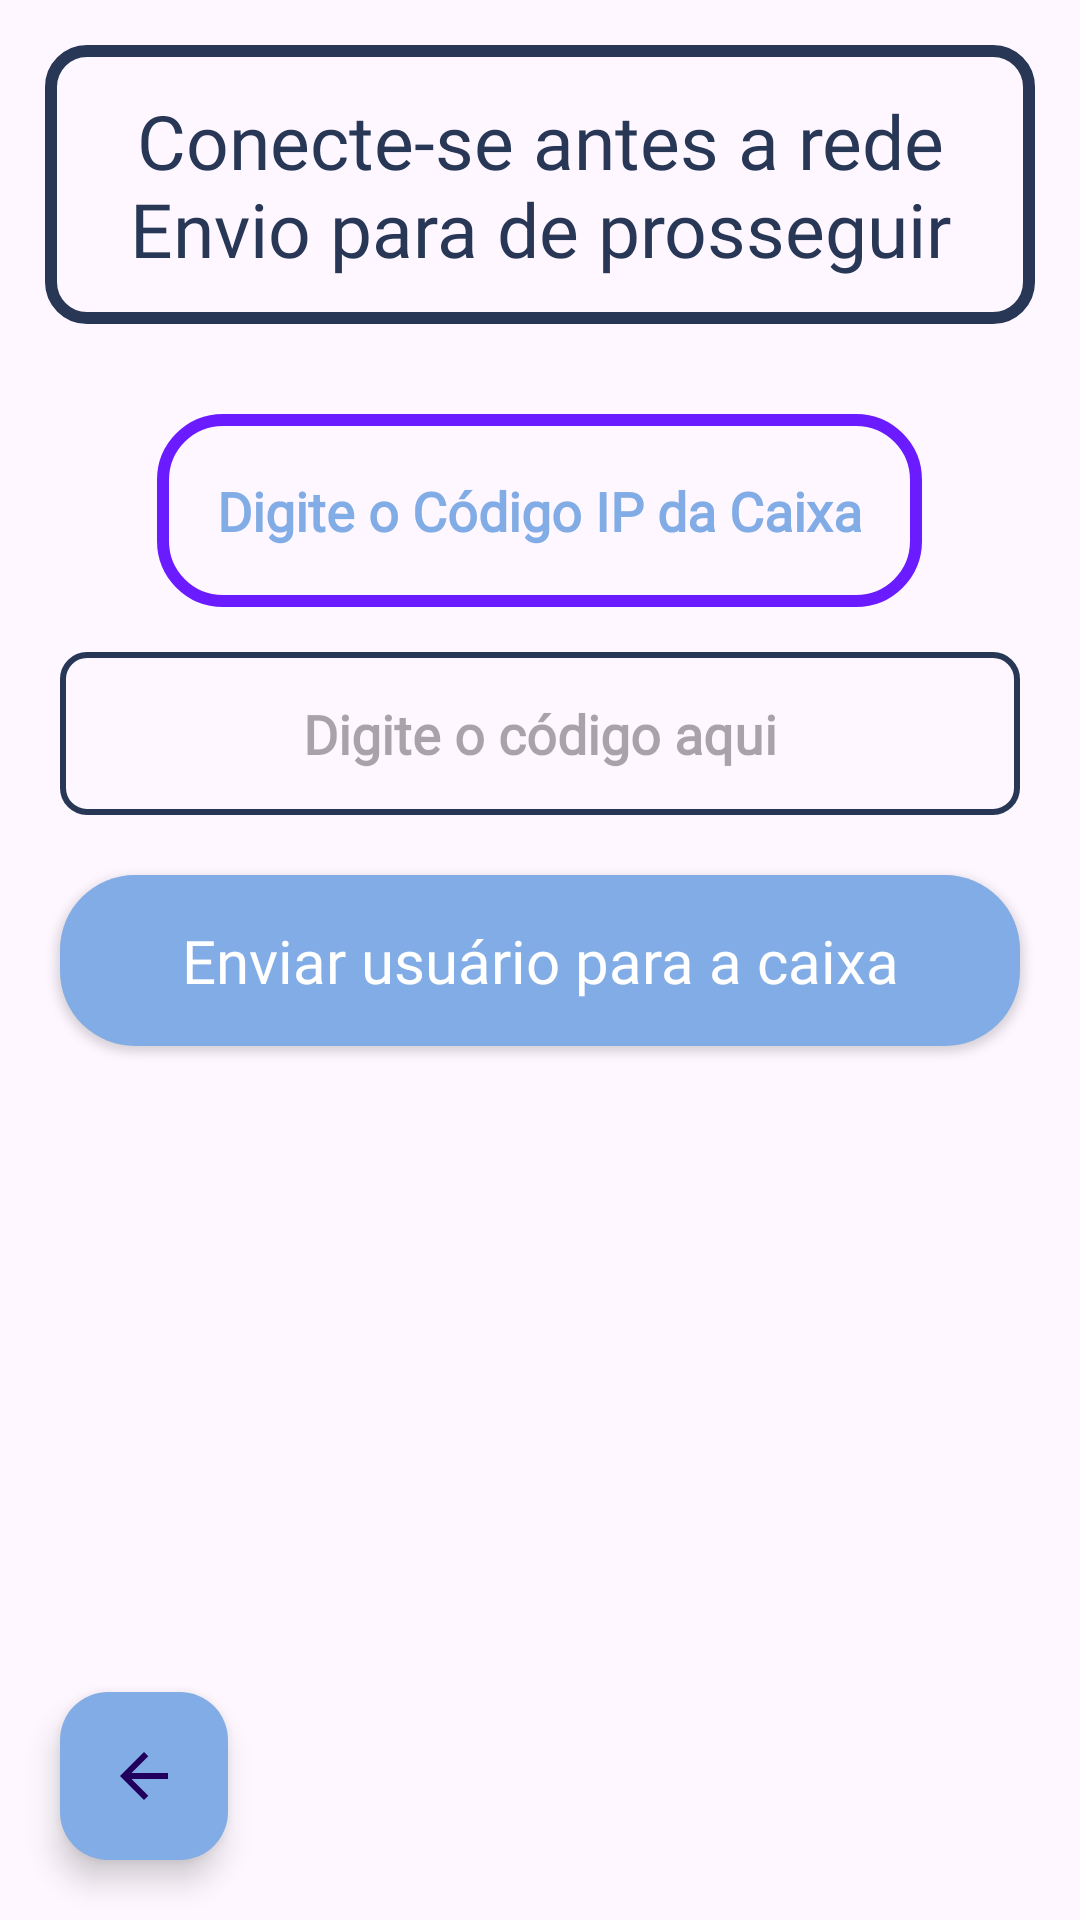

Screen size 1080 x 1920. Icon name, then its box in pixels as (x1, y1, x2, y2):
arrow back: (60, 1692, 228, 1860)
